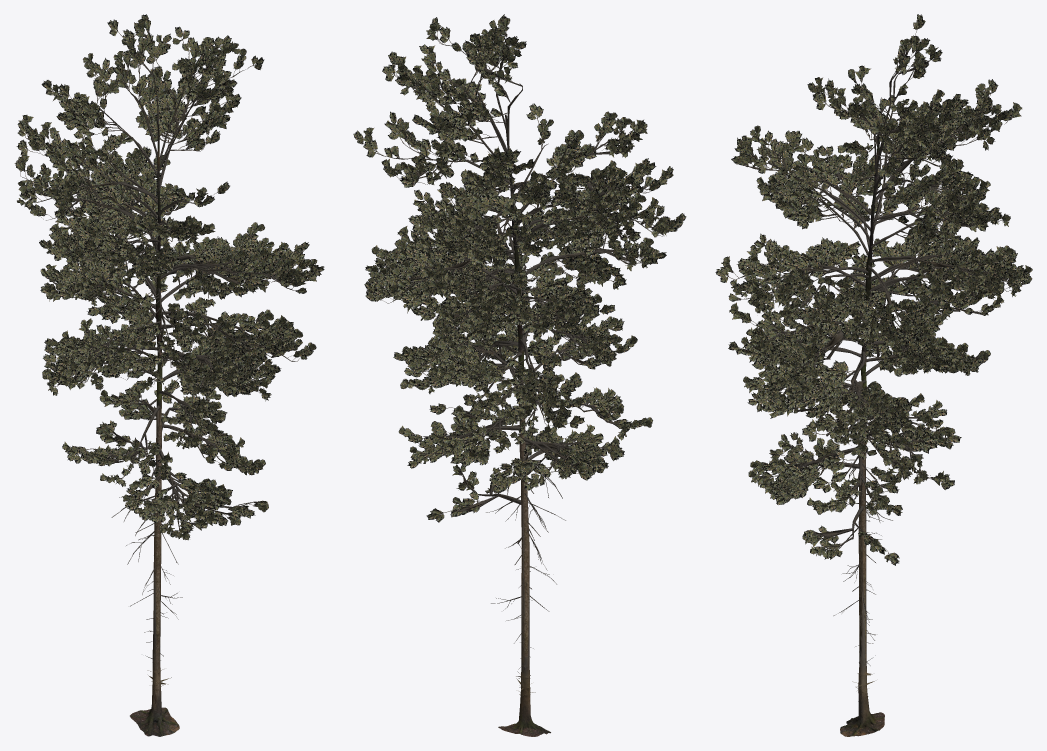
The model's file is pine_tree_01_a_LOD1.glb.
The picture shows the model from 3 angles, left to right: view 1: azimuth 30°, elevation 25°; view 2: azimuth 150°, elevation 25°; view 3: azimuth 270°, elevation 25°; orthographic projection. The views are drawn at different scales.
Parts seen in each view (by area): view 1: pine_tree_01_a_LOD1__lod1, pine_tree_01_a_LOD1__lod2; view 2: pine_tree_01_a_LOD1__lod1, pine_tree_01_a_LOD1__lod2; view 3: pine_tree_01_a_LOD1__lod1, pine_tree_01_a_LOD1__lod2.
Part boxes in pixels (x1,y1,x2,y2): pine_tree_01_a_LOD1__lod1: [15, 15, 323, 736]; pine_tree_01_a_LOD1__lod2: [14, 14, 324, 736]; pine_tree_01_a_LOD1__lod1: [353, 14, 686, 736]; pine_tree_01_a_LOD1__lod2: [355, 16, 685, 736]; pine_tree_01_a_LOD1__lod1: [715, 14, 1032, 736]; pine_tree_01_a_LOD1__lod2: [716, 14, 1032, 736].
Size of the model in its own units: 7.6 by 20.4 by 8.3.
3 materials, 3 textured.
